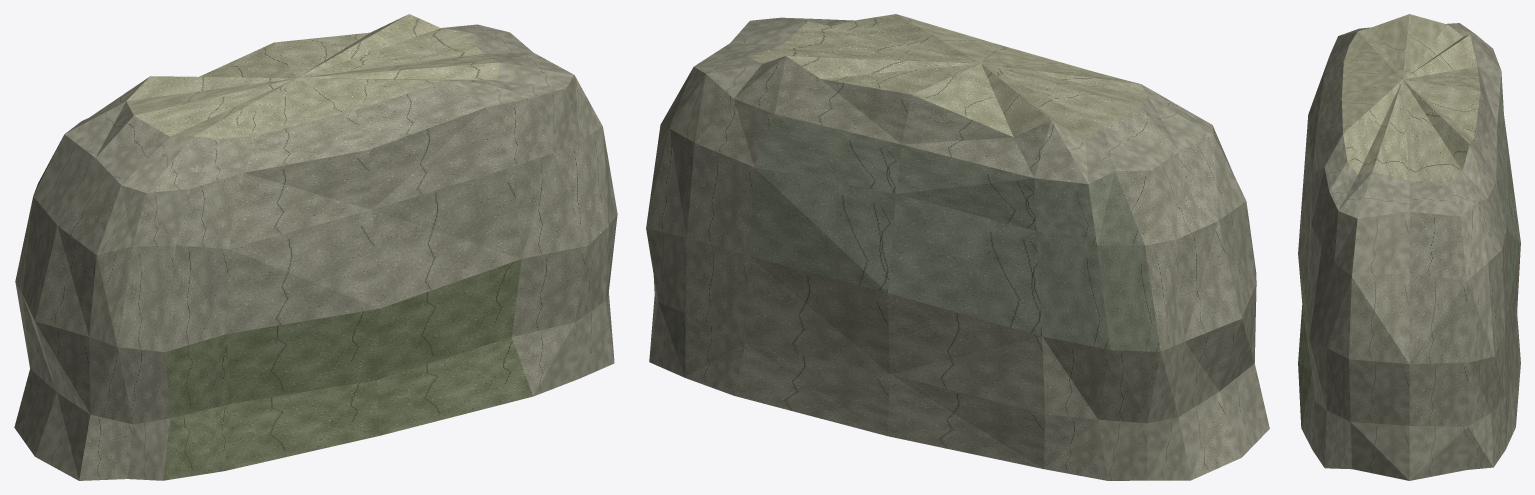
The model's file is SM_QD_UrbanRock_C_LongRidge.fbx.
The picture shows the model from 3 angles, left to right: view 1: azimuth 30°, elevation 25°; view 2: azimuth 150°, elevation 25°; view 3: azimuth 270°, elevation 25°; orthographic projection. The views are drawn at different scales.
Parts seen in each view (by area): view 1: SM_QD_UrbanRock_C_LongRidge; view 2: SM_QD_UrbanRock_C_LongRidge; view 3: SM_QD_UrbanRock_C_LongRidge.
Part boxes in pixels (x1,y1,x2,y2): SM_QD_UrbanRock_C_LongRidge: (14, 14, 617, 480); SM_QD_UrbanRock_C_LongRidge: (646, 14, 1269, 480); SM_QD_UrbanRock_C_LongRidge: (1298, 14, 1520, 480).
Bounding box in the file's own units: 7 × 2.8 × 3.8.
1 material, 1 textured.
